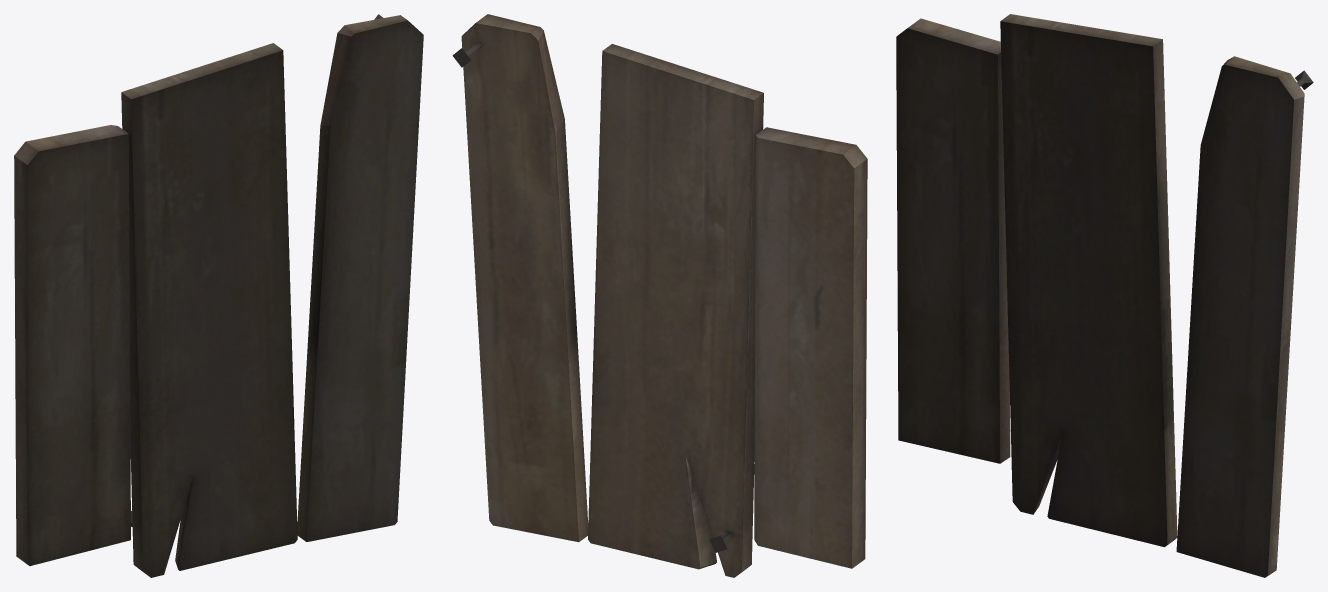
Rendered from props_forest_wood_patch1_small.glb.
3 views of the same model, side by side, from view 1: azimuth 30°, elevation 25°; view 2: azimuth 150°, elevation 25°; view 3: azimuth 330°, elevation 25° (orthographic).
Parts seen in each view (by area): view 1: models/props_forest/wood_patch1_small; view 2: models/props_forest/wood_patch1_small; view 3: models/props_forest/wood_patch1_small.
Boxes of the visible parts, box(x1,y1,x2,y2) form: models/props_forest/wood_patch1_small: box(14, 14, 423, 577); models/props_forest/wood_patch1_small: box(452, 14, 867, 577); models/props_forest/wood_patch1_small: box(896, 14, 1313, 577).
Bounding box in the file's own units: 64.08 × 77.25 × 7.7.
1 material, 1 textured.
